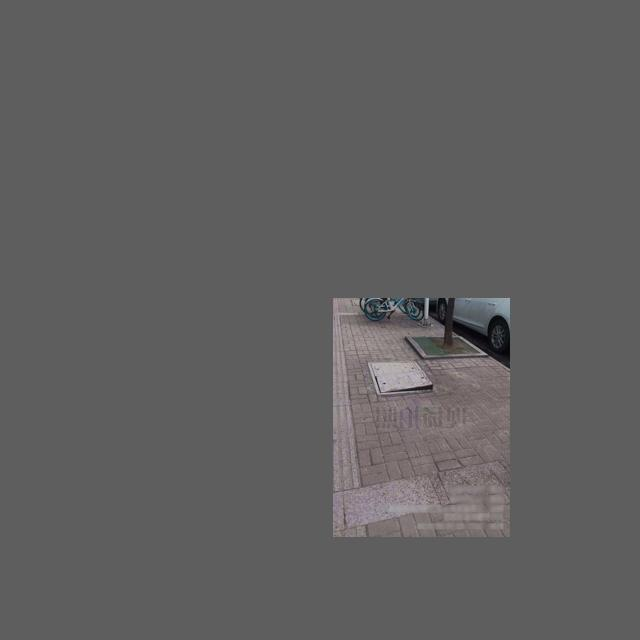uncovered: (374, 365, 433, 392)
